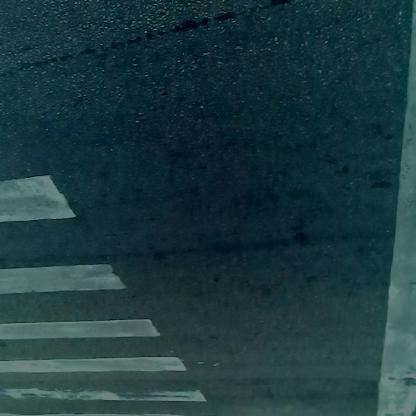crosswalk: (2, 166, 216, 411)
